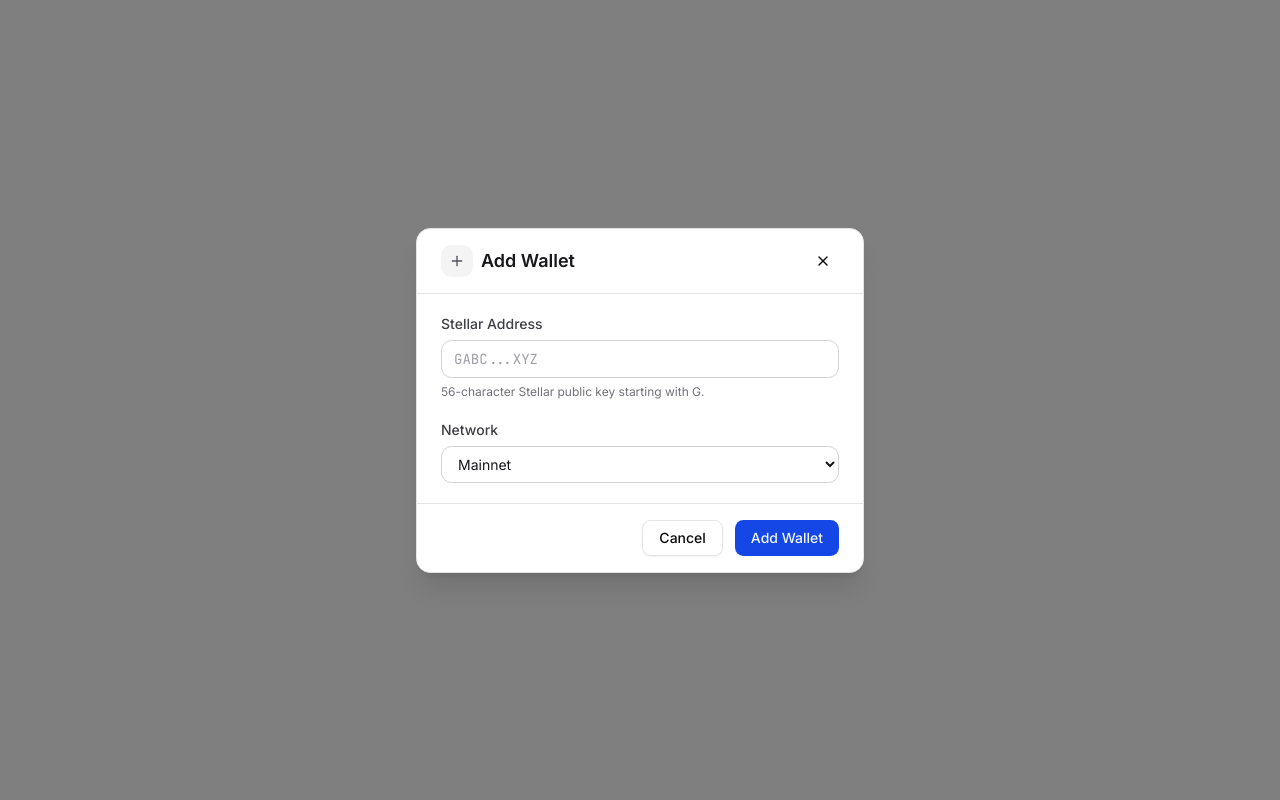
Test: AddWalletModal validation › shows an error when submitting an empty address
Click the button "Add Wallet" at (787, 538), box [735,520,839,556]
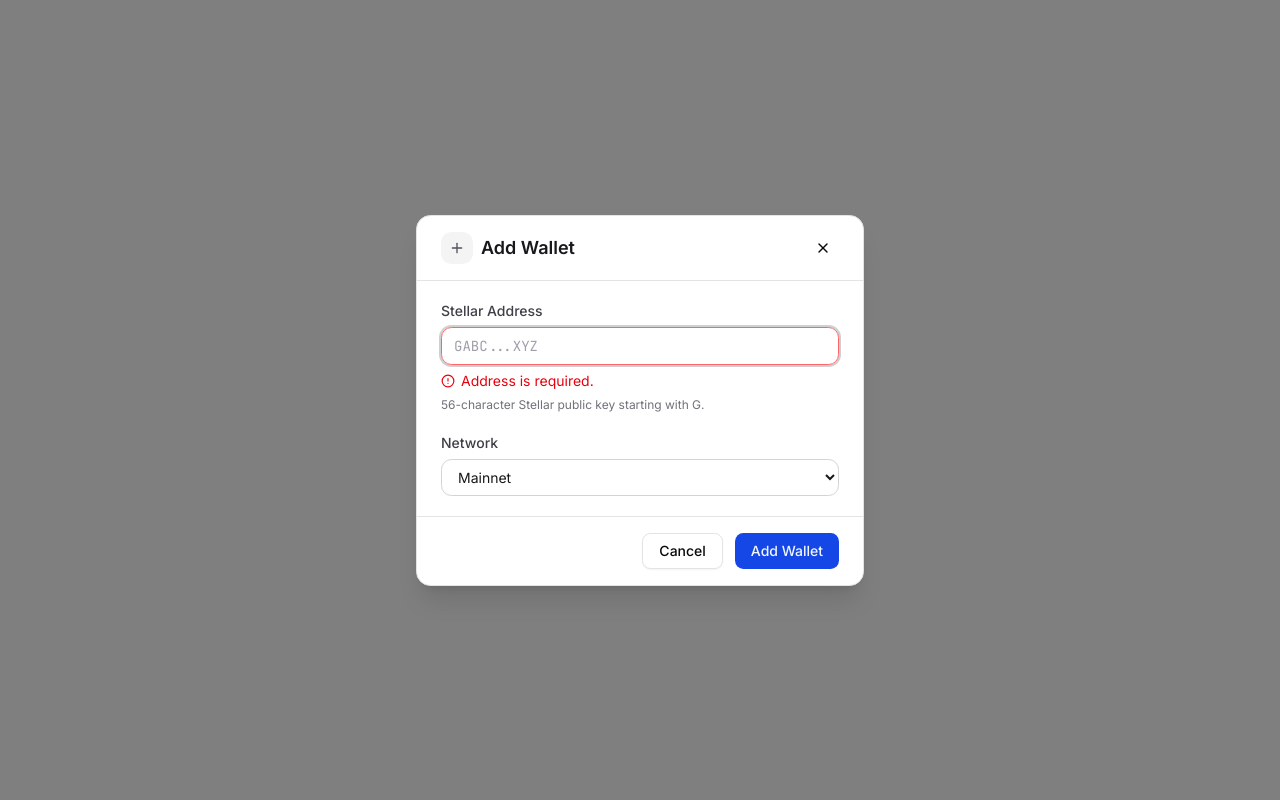
Result: the message "Address is required." is shown at [441,372,594,388]
Result: the message shows "required" at [461,372,594,388]
